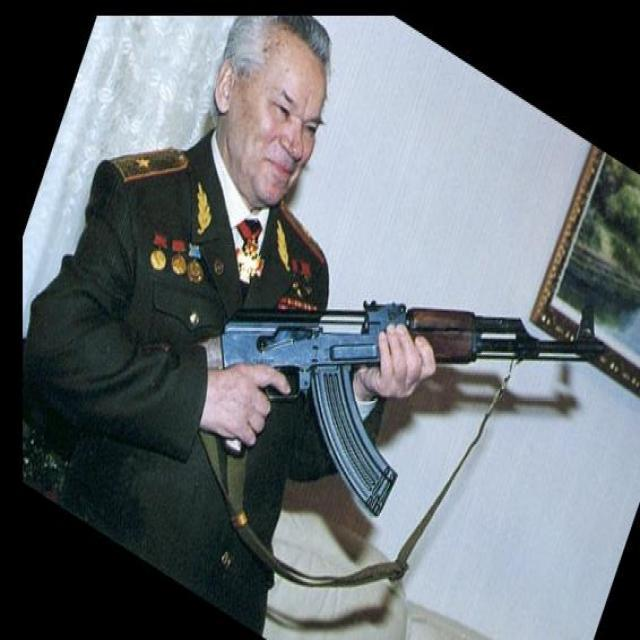weapon: (189, 298, 605, 520)
